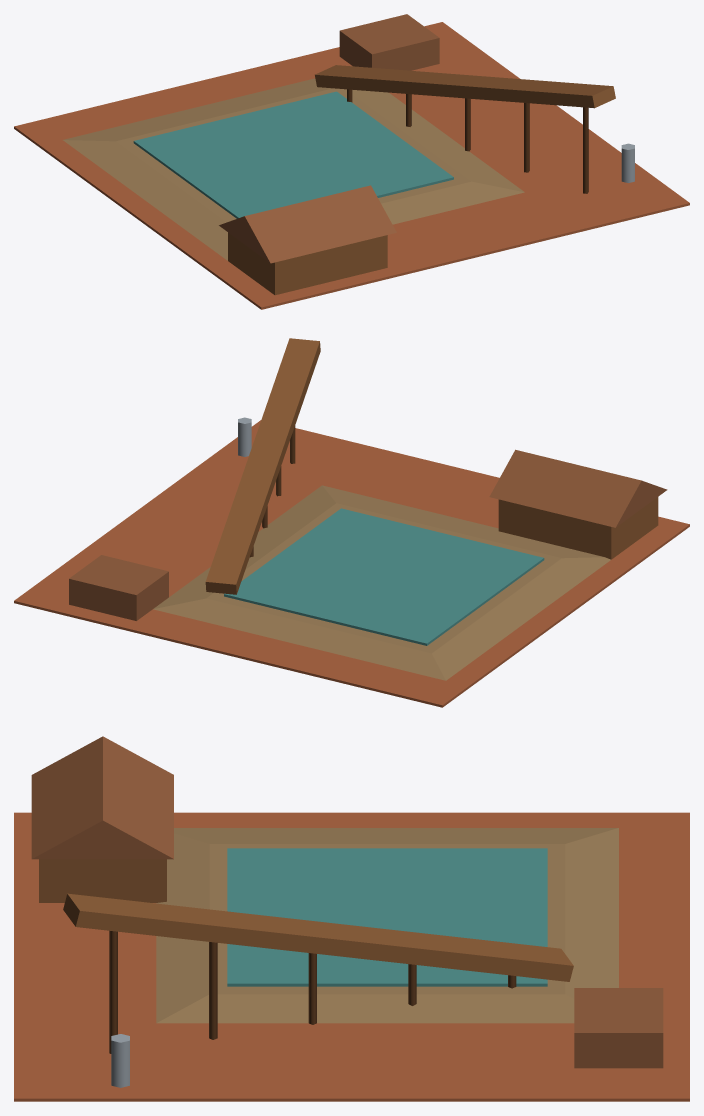
The model's file is building_lombong.glb.
3 renders of one model, top to bottom at view 1: azimuth 30°, elevation 25°; view 2: azimuth 150°, elevation 25°; view 3: azimuth 270°, elevation 25°, orthographic. The views are drawn at different scales.
Parts seen in each view (by area): view 1: building_lombong; view 2: building_lombong; view 3: building_lombong.
Part boxes in pixels (box(x1,y1,x2,y2)): building_lombong: box(14, 14, 689, 309); building_lombong: box(14, 338, 689, 707); building_lombong: box(14, 736, 689, 1101).
Size of the model in its own units: 1.9 by 0.484 by 1.9.
